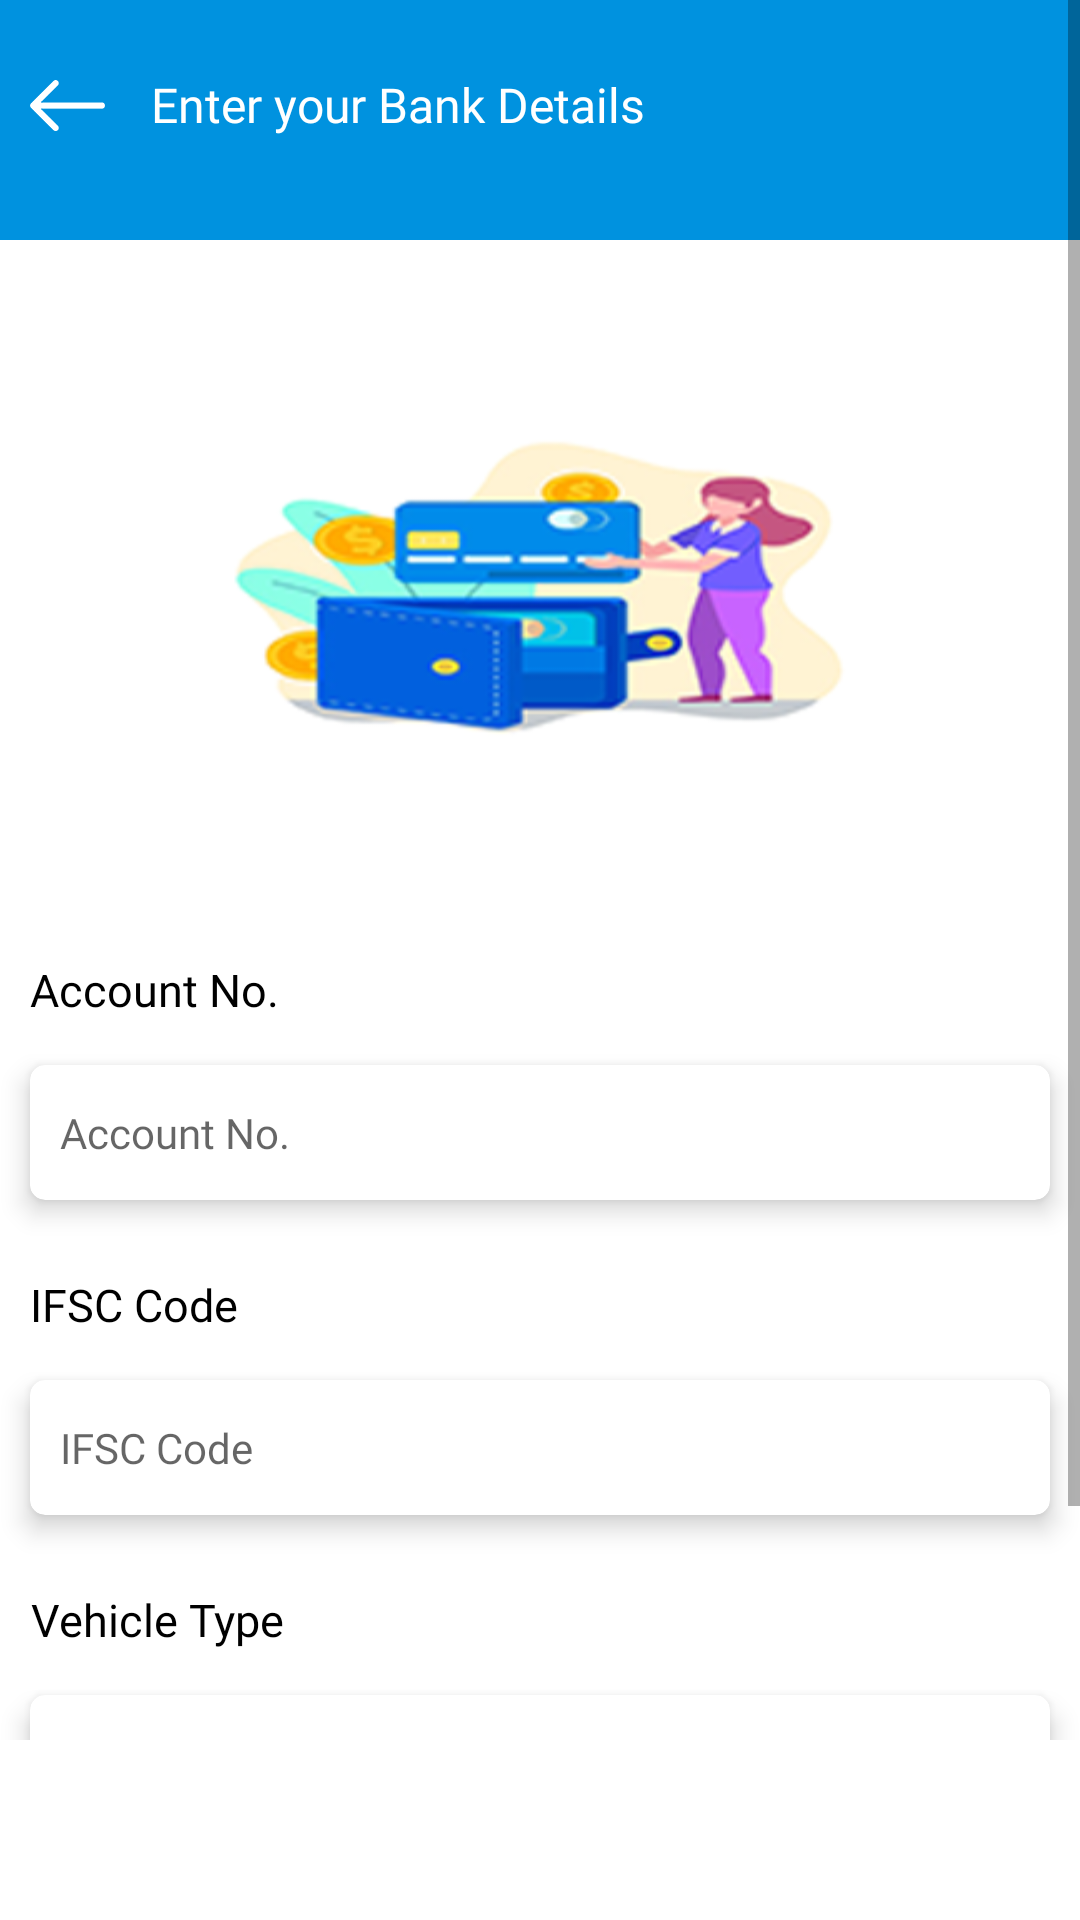

Point at icon controls on the screen. Image size 1080px×1920px, points as (x,y).
back: (67,105)
